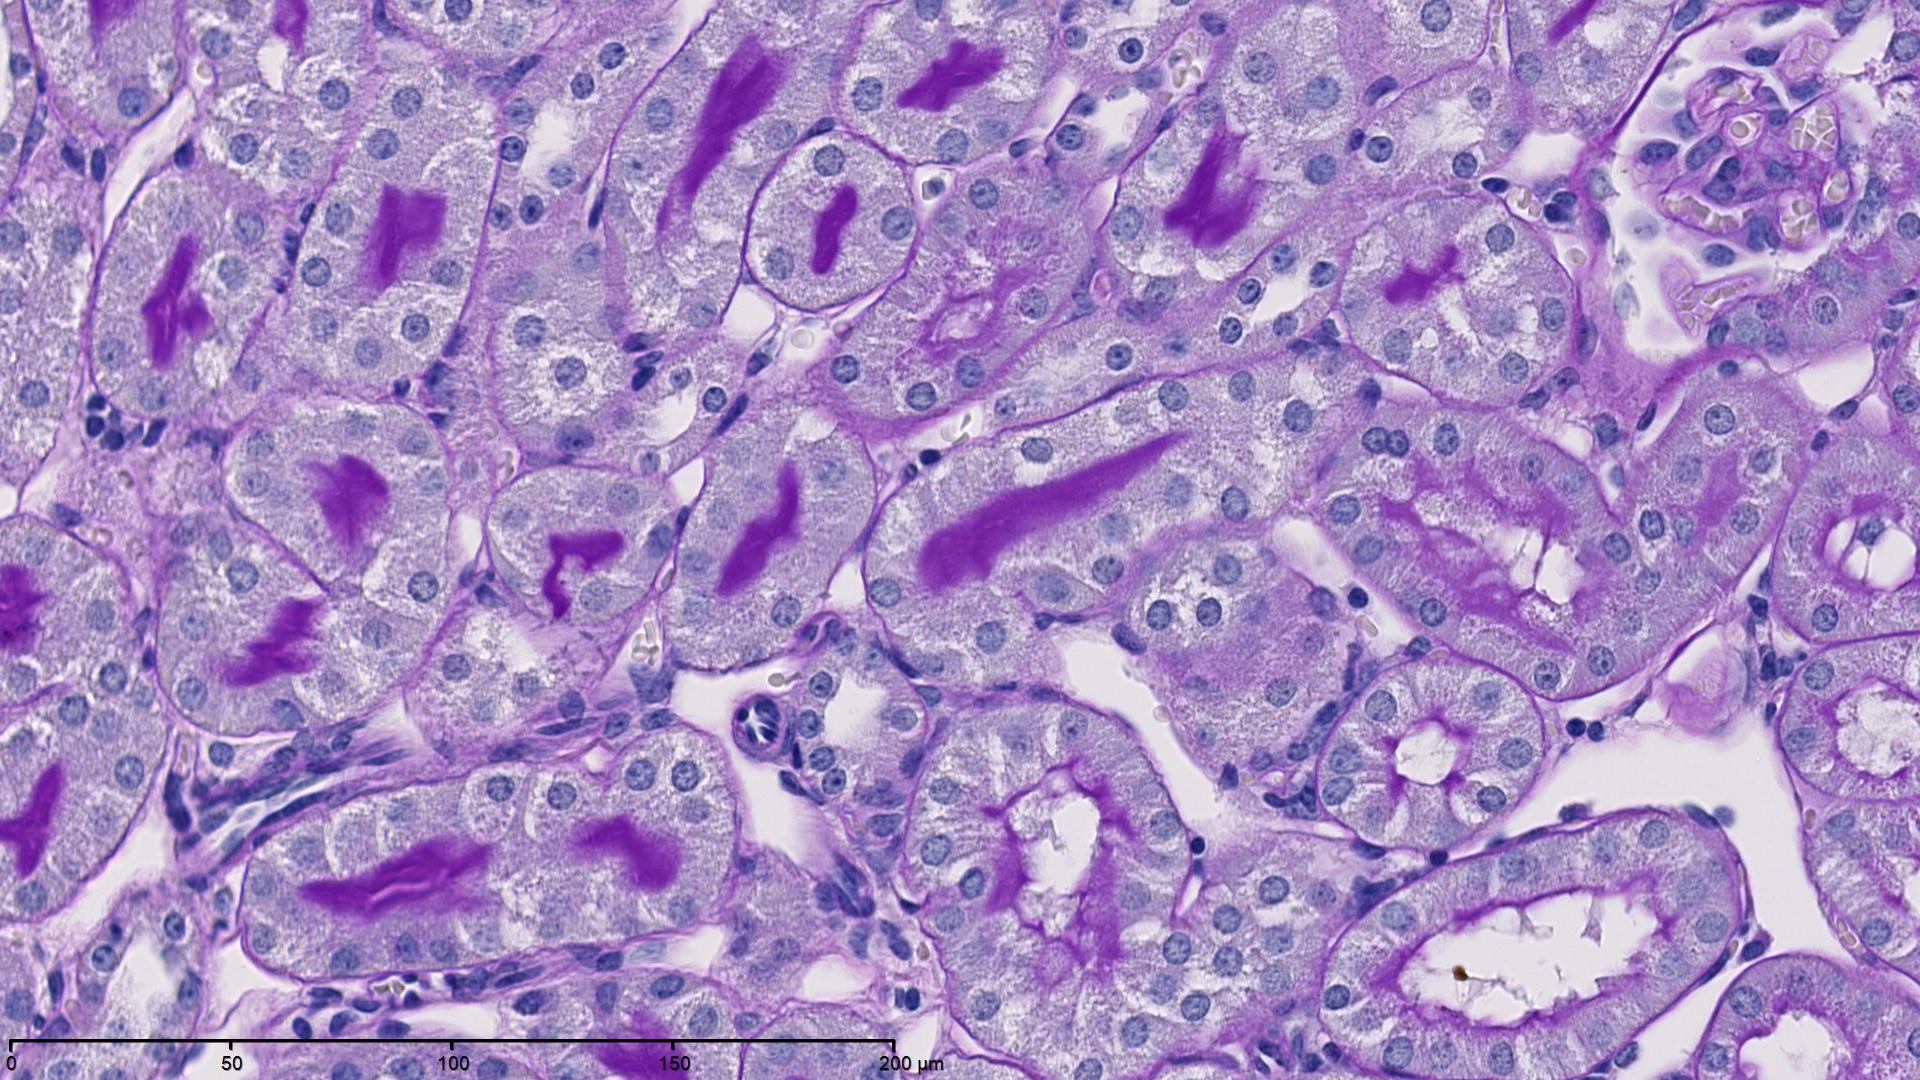Glomeruli: (1635, 47, 1888, 276)
